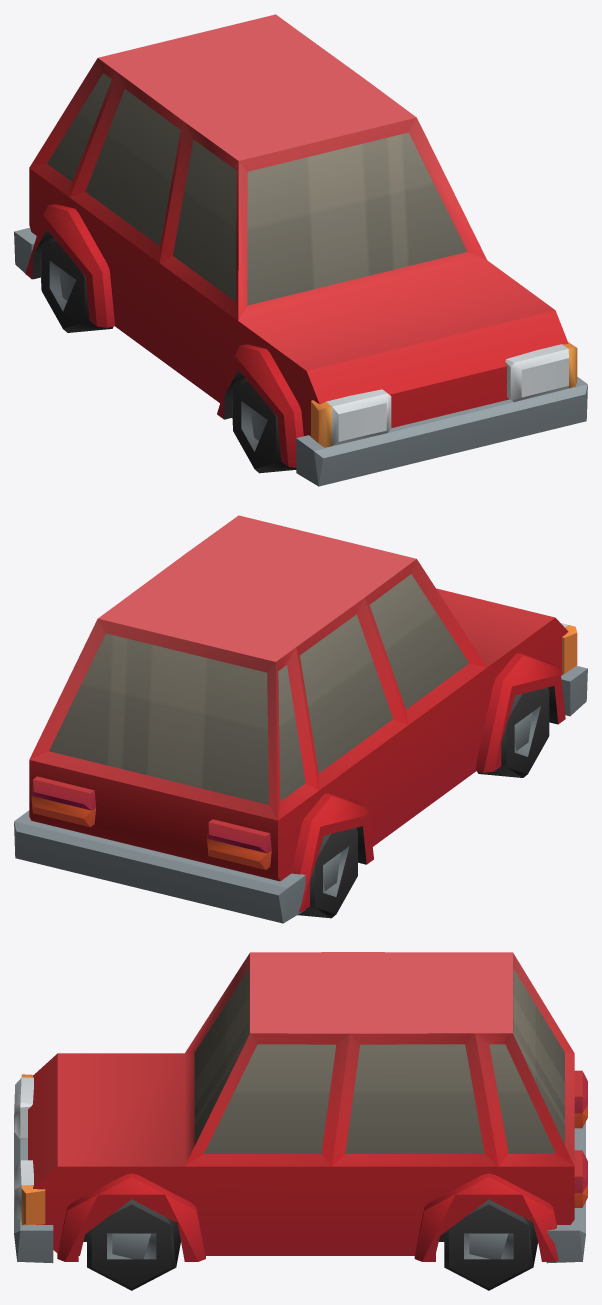
File: cc0-car-hatchback-lod1.glb
3 renders of one model, top to bottom at view 1: azimuth 30°, elevation 25°; view 2: azimuth 150°, elevation 25°; view 3: azimuth 270°, elevation 25°, orthographic. The views are drawn at different scales.
Visible parts, largest first — view 1: part_0; view 2: part_0; view 3: part_0.
Part boxes in pixels (left/top/right/bottom): part_0: left=14, top=14, right=587, bottom=486; part_0: left=14, top=515, right=587, bottom=923; part_0: left=14, top=952, right=587, bottom=1290.
Size of the model in its own units: 0.419 by 0.3688 by 0.8061.
Materials: 1 (1 with a texture image).
